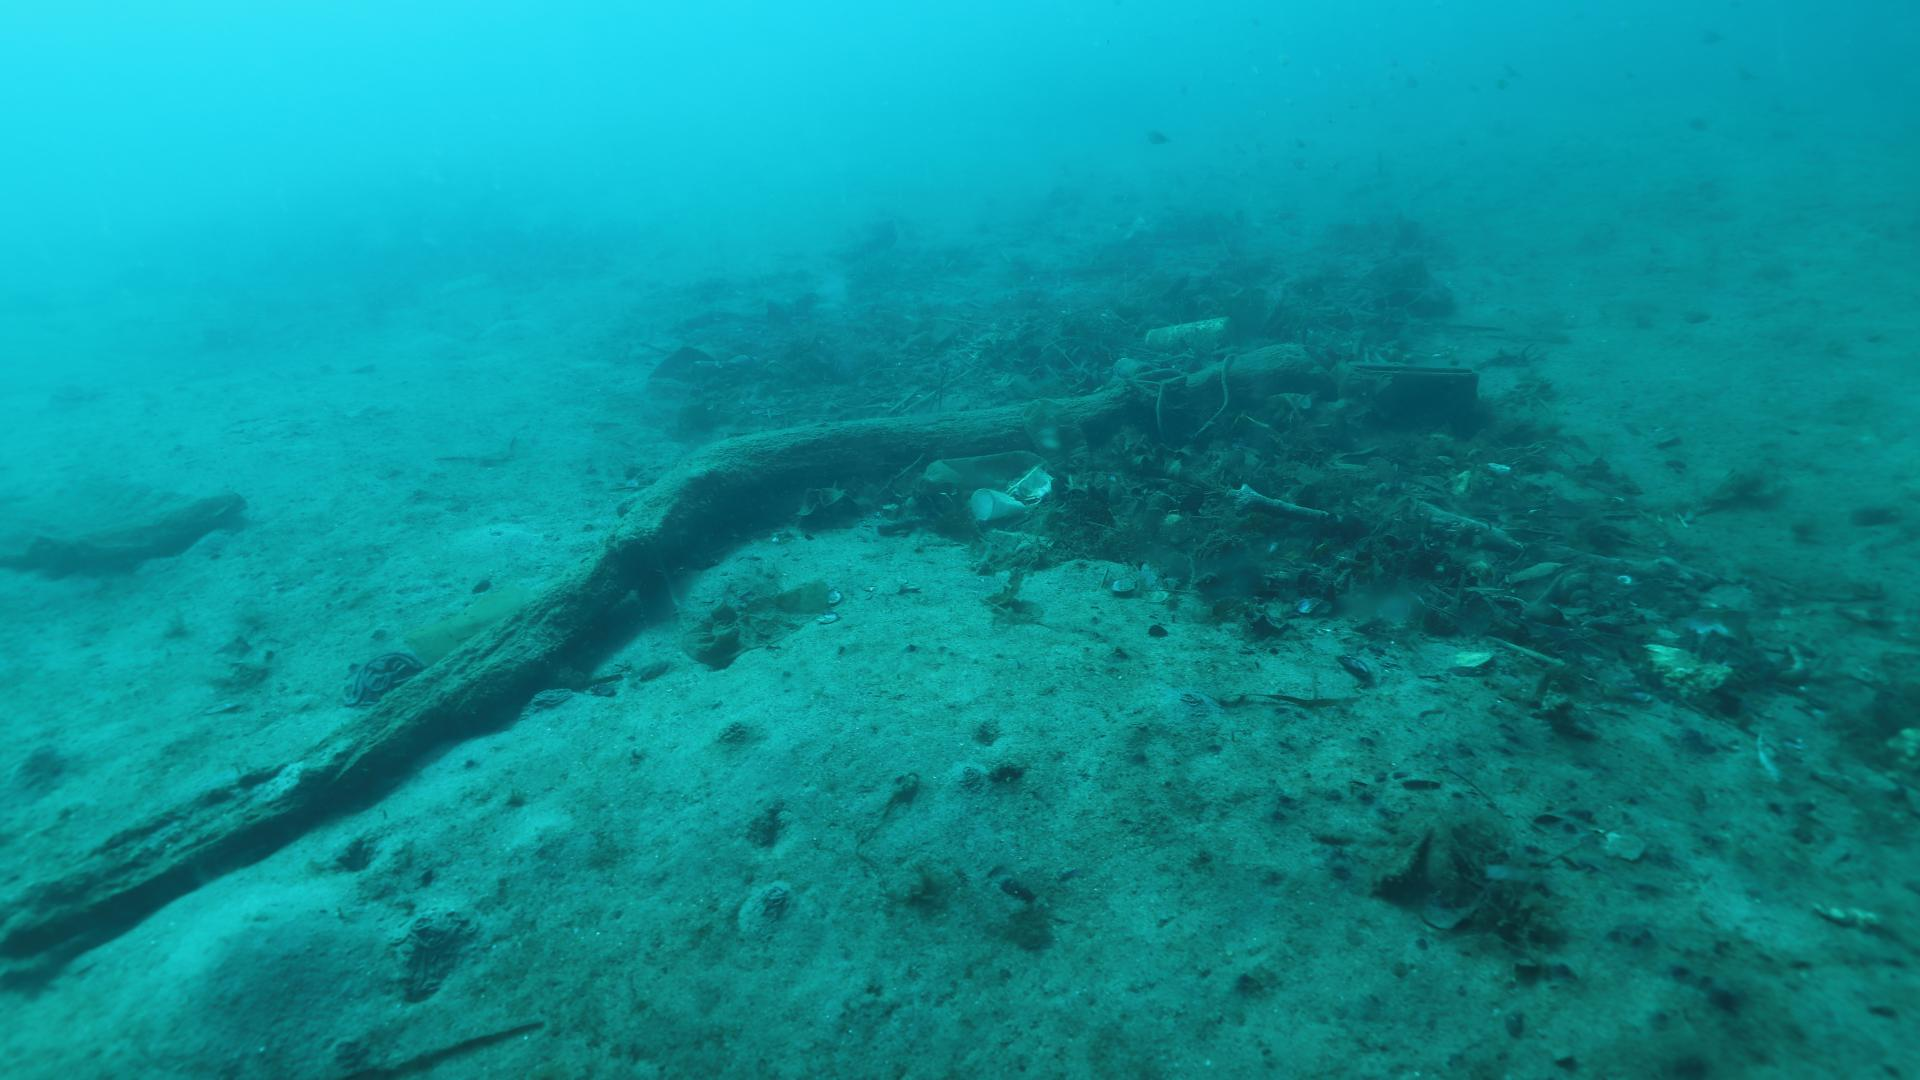wood: (0, 342, 1340, 972)
